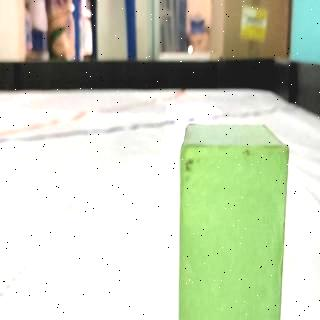greenbox: (178, 120, 292, 320)
